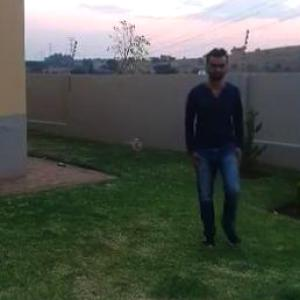follow: (178, 45, 230, 232)
